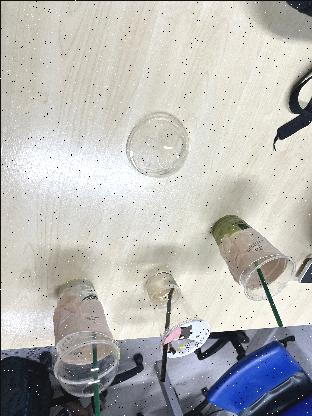Others: (205, 214, 295, 297), (49, 279, 117, 381), (140, 266, 214, 350), (119, 104, 194, 182), (53, 337, 127, 399), (251, 272, 287, 334), (84, 334, 109, 416), (157, 290, 171, 384)
